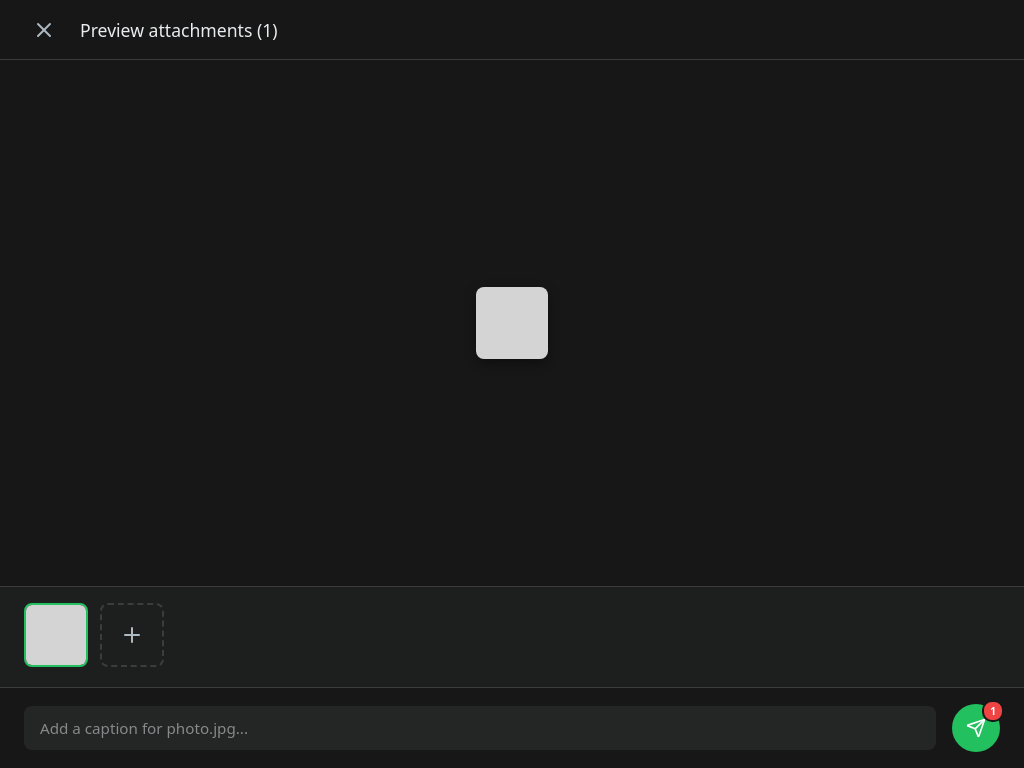
Scenario: MultiFilePreview › @mention menu in the caption › shows participants after typing @ and inserts @number + records the mention on select
The width and height of the screenshot is (1024, 768).
In the field with placeholder "Add a caption for photo.jpg...": (480, 728) [24,706,936,750], type "hi @bo"
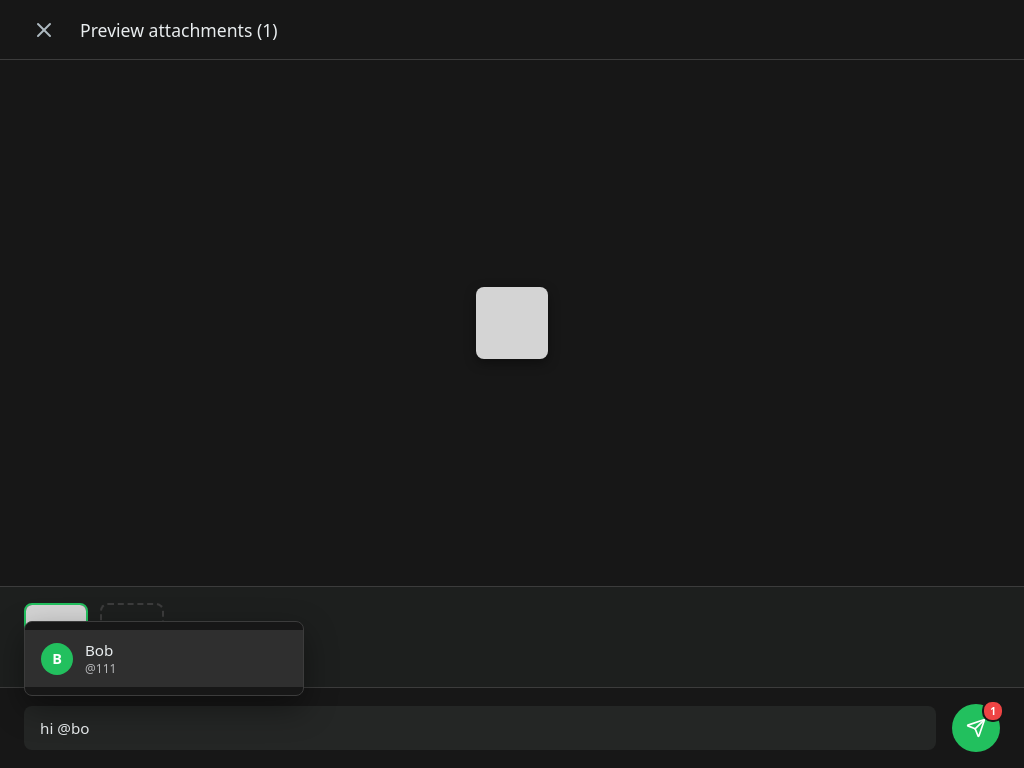
Click the text "Bob": (99, 650) [85,640,113,660]
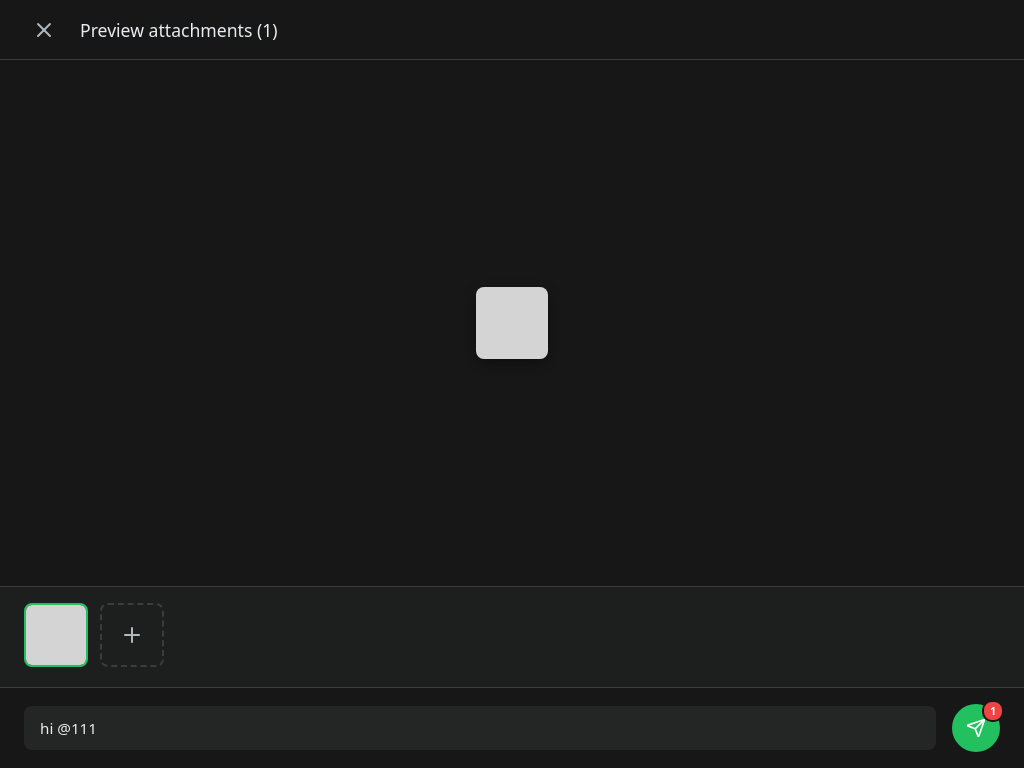
Now the field with placeholder "Add a caption for photo.jpg..." holds "hi @111 ", box [24,706,936,750]
